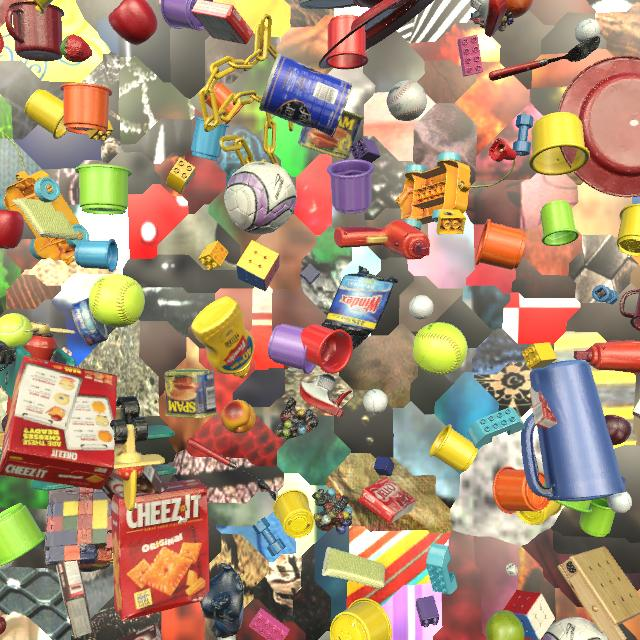ycb_002_master_chef_can: (259, 54, 352, 137)
ycb_003_cracker_box: (0, 356, 117, 490), (111, 479, 210, 621)
ycb_006_mustard_bottle: (191, 296, 254, 378)
ycb_007_tuna_fish_can: (71, 298, 108, 347)
ycb_008_pudding_box: (102, 452, 168, 501), (56, 561, 93, 639), (117, 623, 162, 640)
ycb_009_gelatin_box: (358, 477, 417, 524), (191, 0, 254, 44), (529, 387, 558, 429)
ycb_010_potted_meat_can: (298, 110, 364, 160), (164, 368, 218, 418)
ycb_012_strawberry: (60, 34, 93, 62)
ycb_013_apple: (108, 0, 157, 45), (0, 209, 24, 249)
ycb_015_peach: (221, 400, 256, 433)
ycb_016_pear: (485, 610, 525, 640)
ycb_017_orange: (505, 0, 533, 19)
ycb_018_plum: (605, 414, 631, 445), (2, 414, 9, 432)
